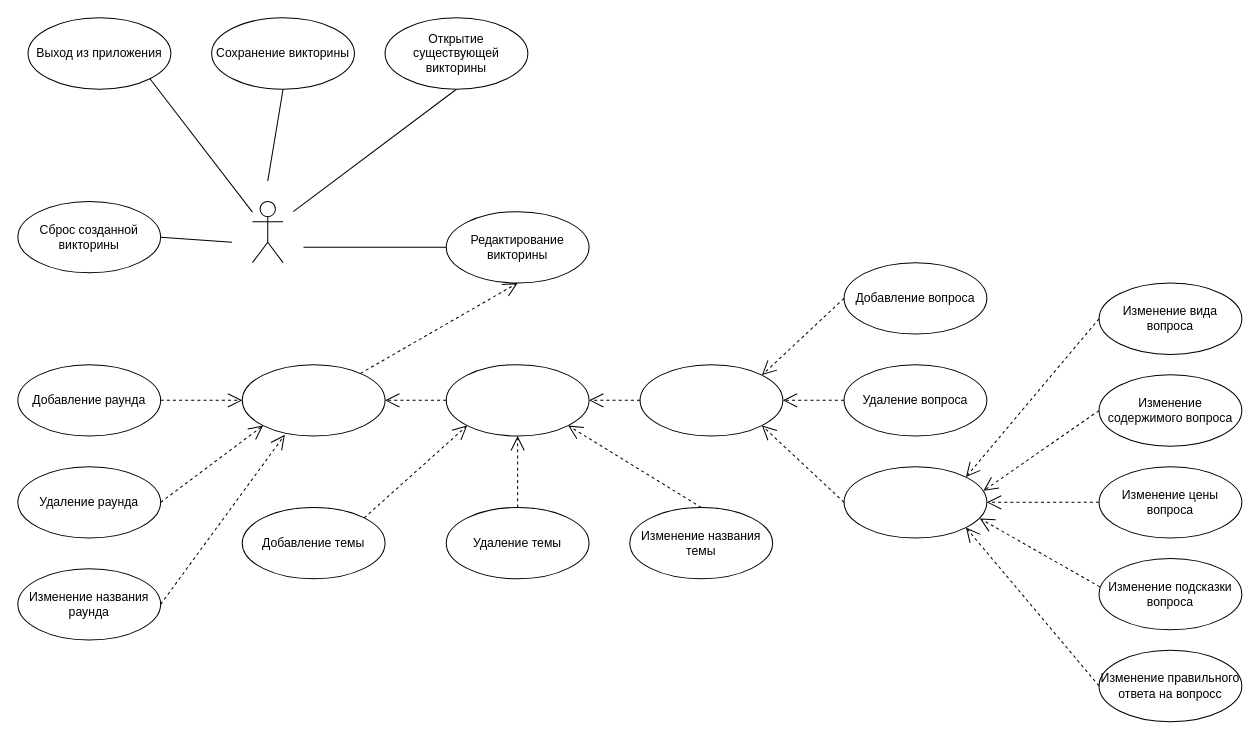
The diagram is 1260 pixels wide and 740 high, and some of its shapes have lost their labels. The shapes that lost their labels are listed below. From the top down, each one's box as (x1, y1, x2, y2) in pixels, then its label:
(251, 200, 283, 263): Пользователь
(241, 364, 385, 436): Управление раундами
(445, 364, 589, 436): Управление темами
(639, 364, 783, 436): Управление вопросами
(843, 466, 987, 538): Редактирование вопроса
